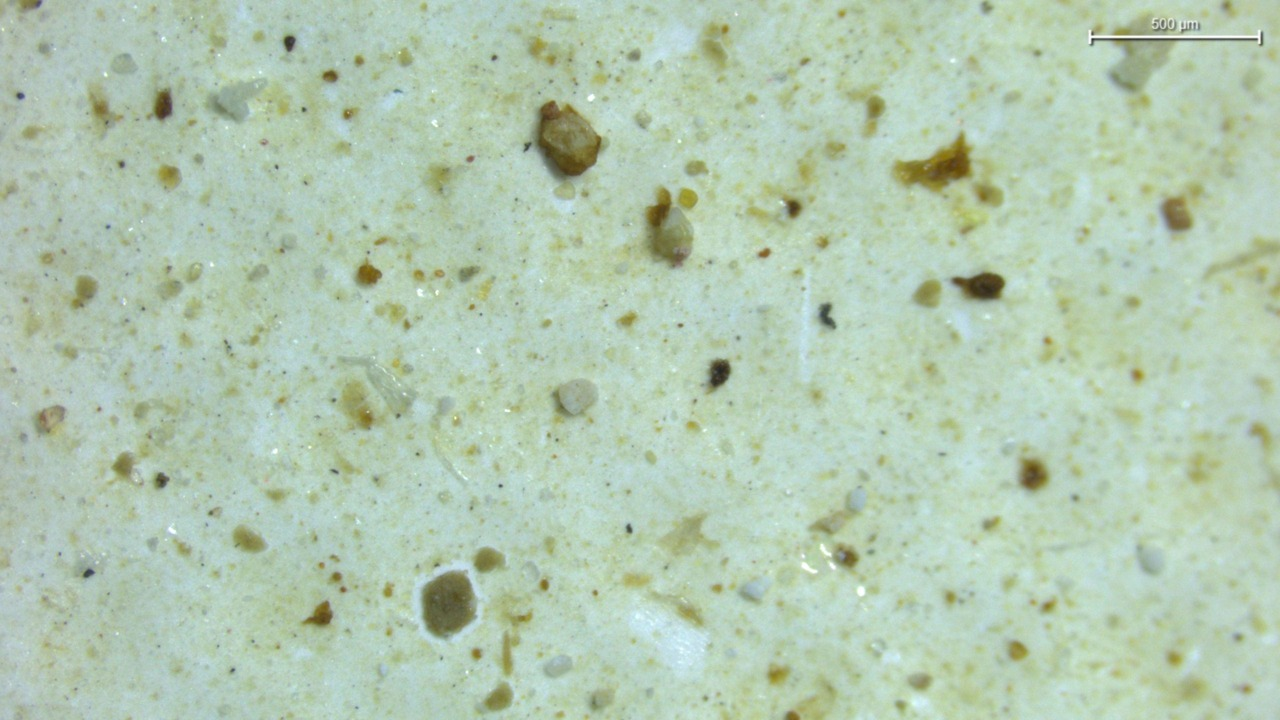microplastic_fragment: (538, 100, 601, 175), (653, 206, 694, 264), (215, 78, 267, 120), (557, 379, 597, 415)
